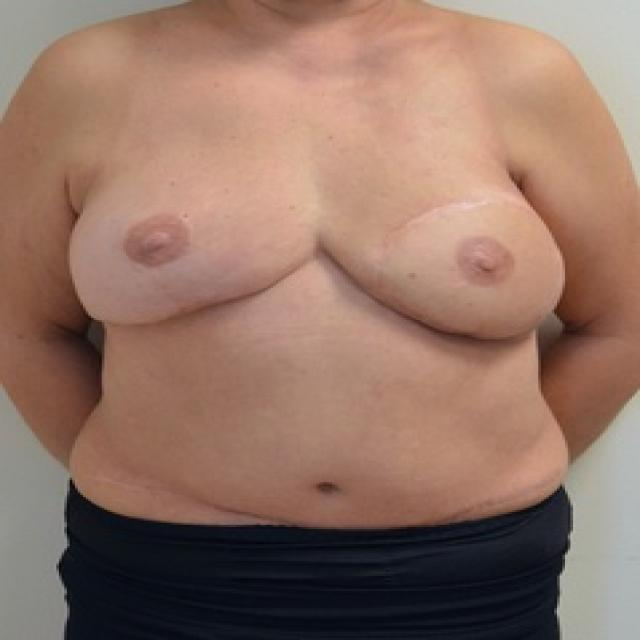Seno herido: (316, 133, 577, 363)
Seno ileso: (58, 133, 312, 346)
